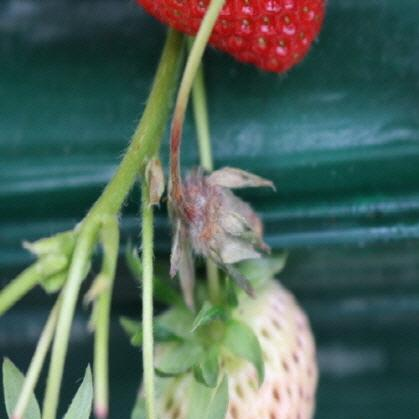Gray Mold: (166, 160, 277, 309)
